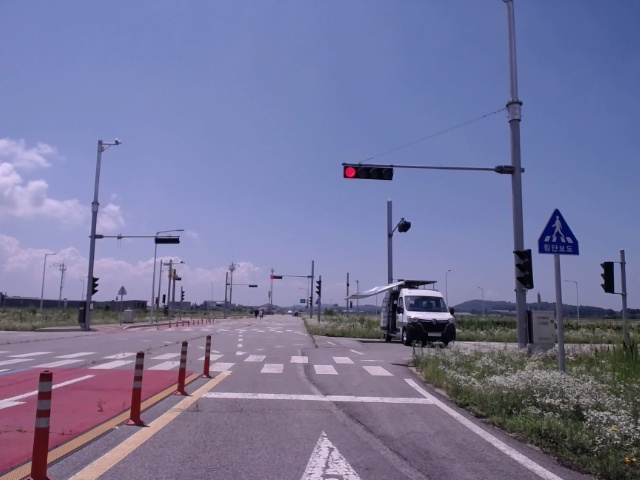red_4: (344, 166, 392, 181)
